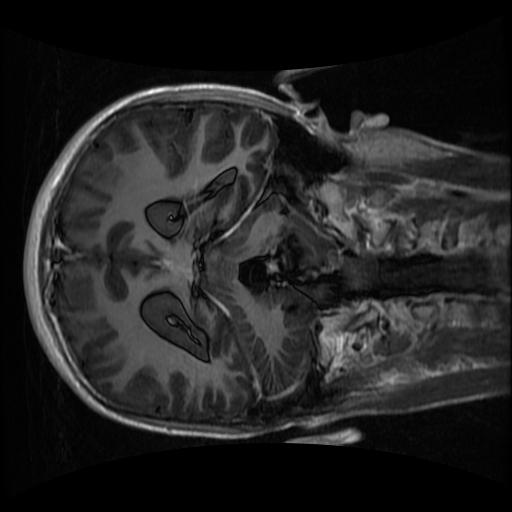glioma: (226, 227, 342, 319)
